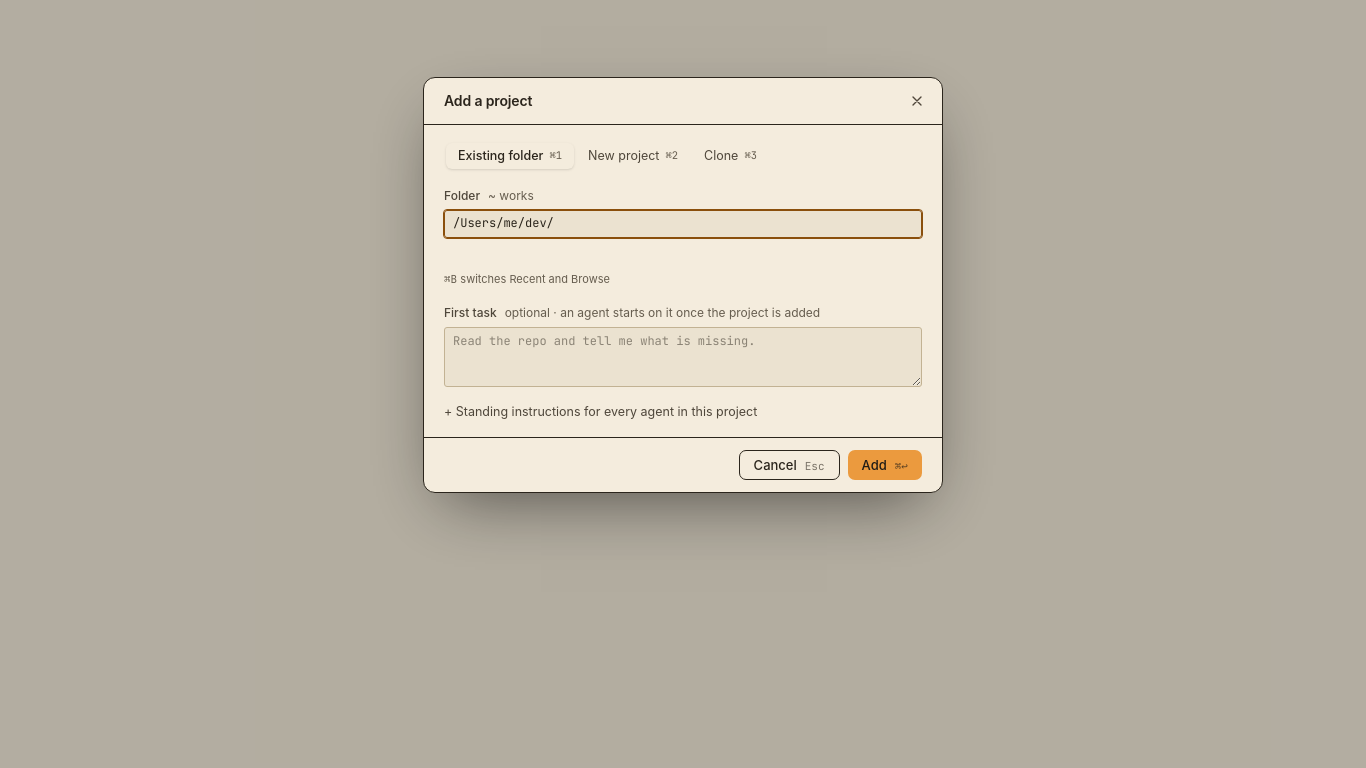
Test: what is at the path › asks the daemon 250 ms after the last key and says it
Click the tab "Clone ⌘3": (731, 156) [692, 143, 769, 169]
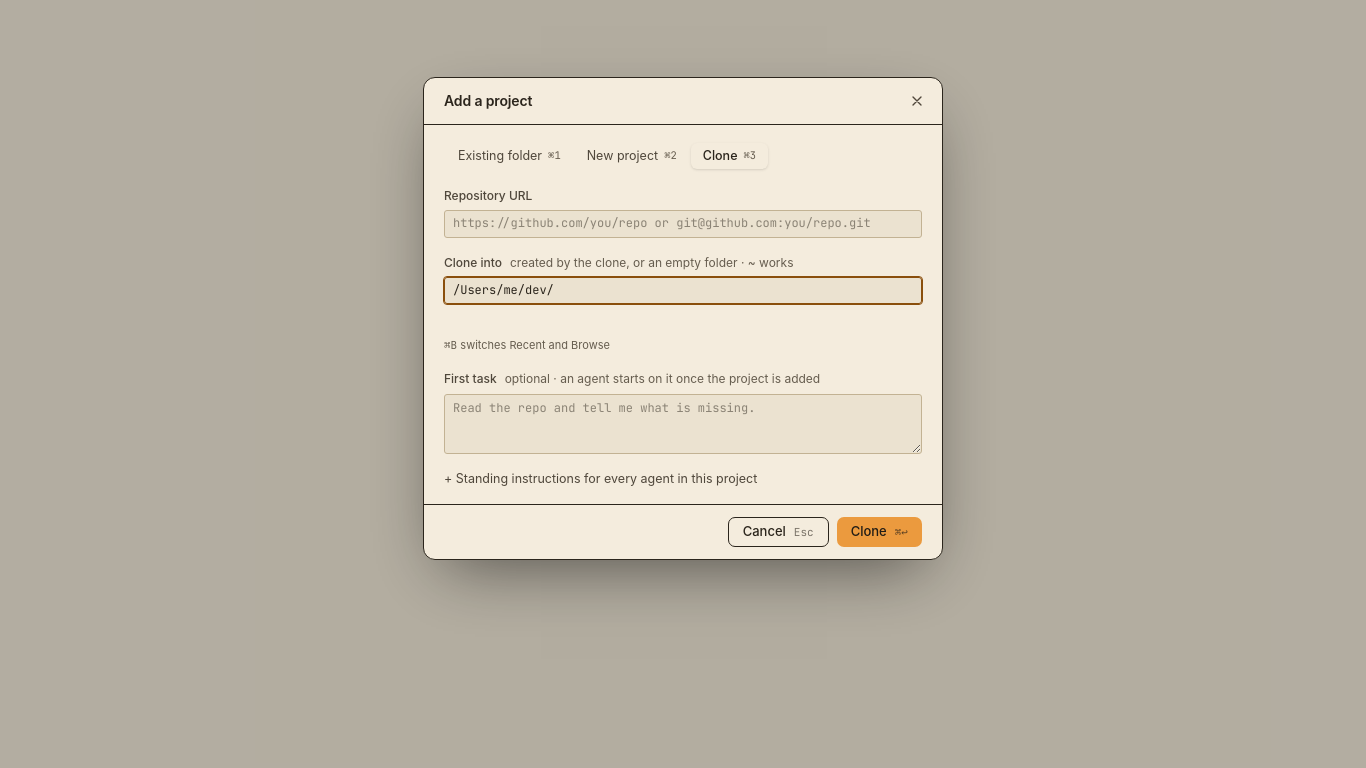
Replace the text in the field labelled "Clone into" with "/Users/me/dev/x": (683, 291) [444, 277, 922, 304]
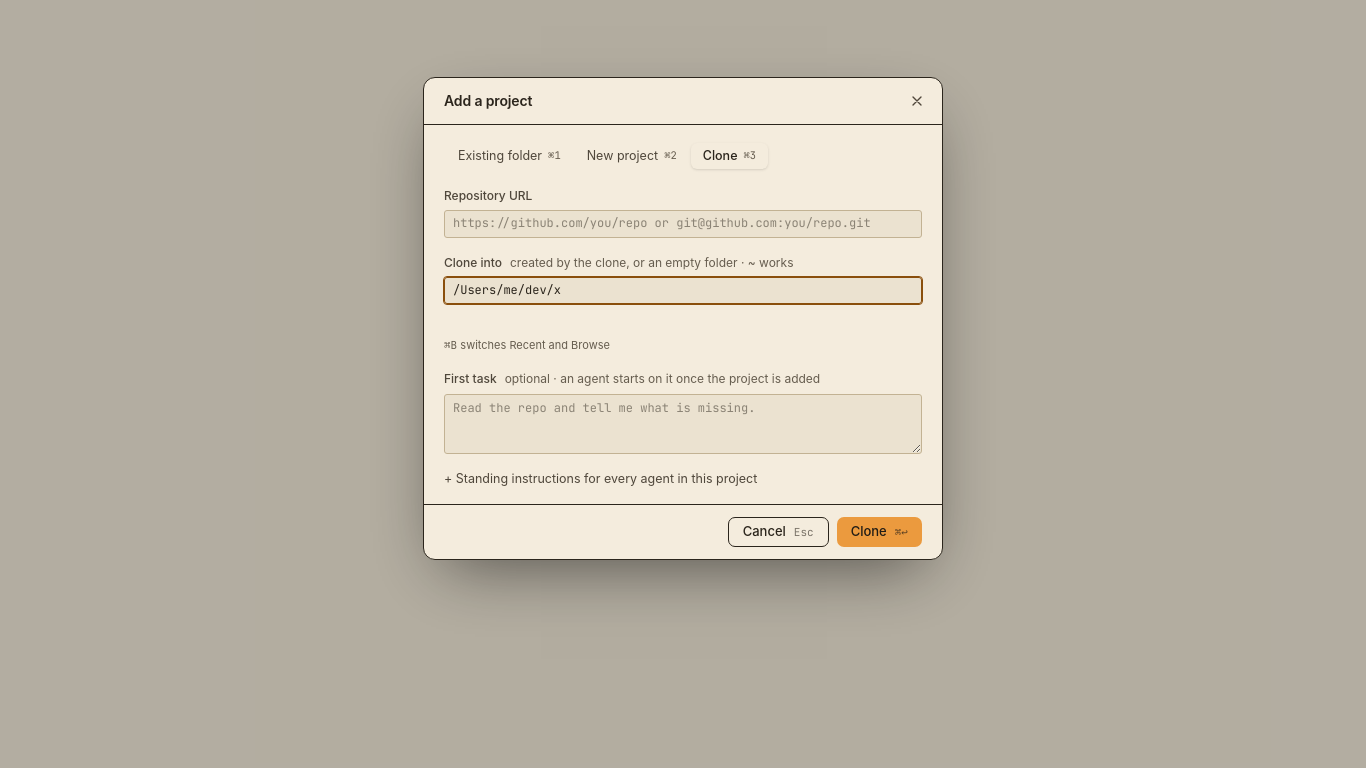
Replace the text in the field labelled "Clone into" with "/Users/me/dev/xy": (683, 291) [444, 277, 922, 304]
Wait 260 ms
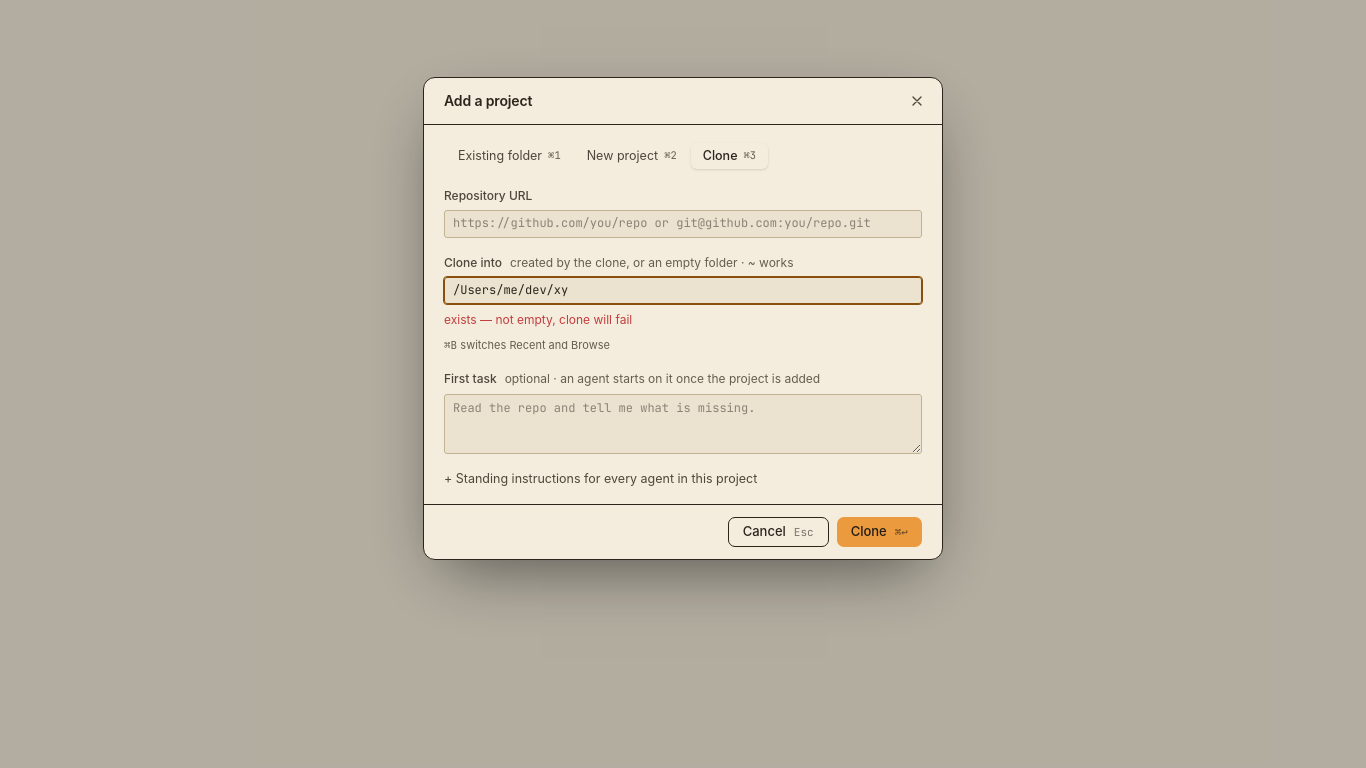
Check: the message named "What is there" reads "exists — not empty, clone will fail", box [444, 312, 632, 327]
